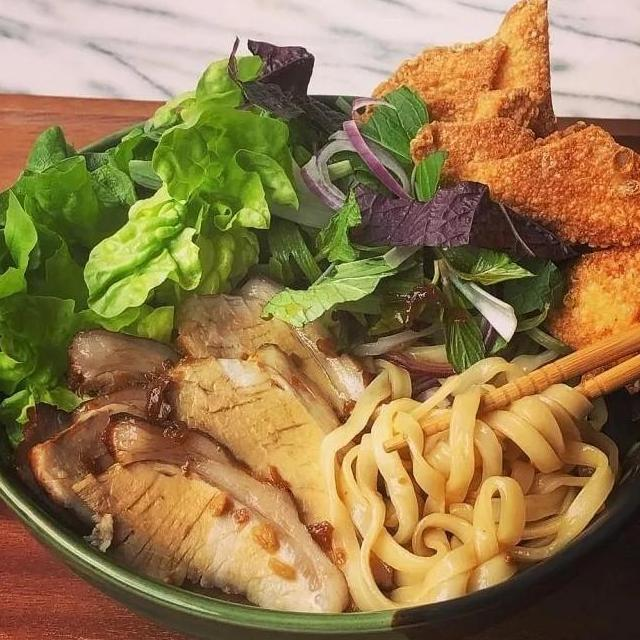banh da: (347, 0, 561, 192), (403, 109, 640, 251), (539, 232, 640, 400)
mi: (312, 322, 624, 619)
mi quang: (0, 41, 640, 640)
thit heo: (138, 337, 398, 596), (68, 409, 352, 623), (4, 321, 218, 556), (164, 268, 382, 443)
